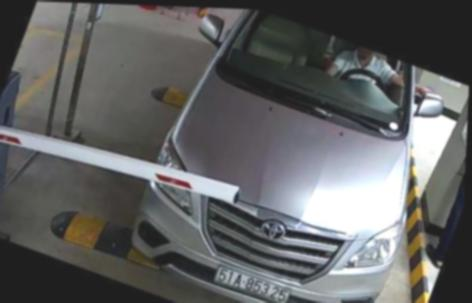License_Plate: (208, 256, 292, 303)
